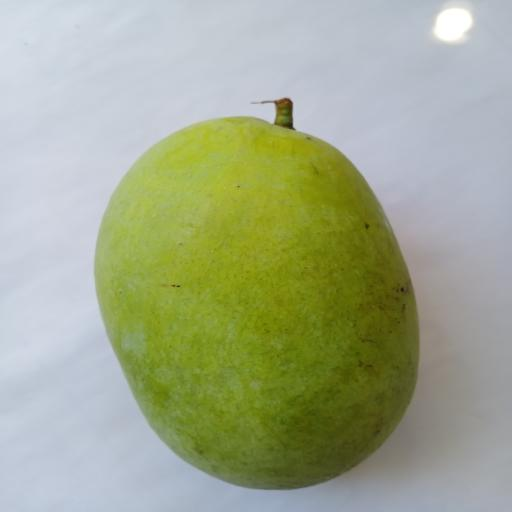mango-unripe: (89, 82, 415, 502)
